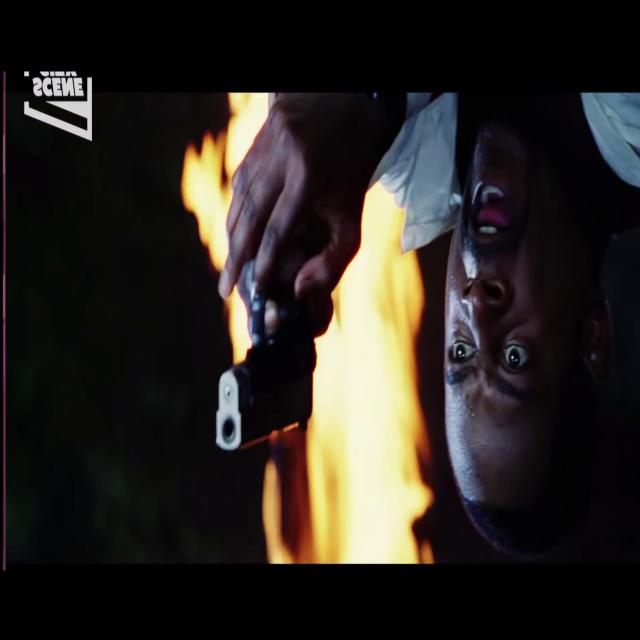weapons: (198, 147, 326, 489)
